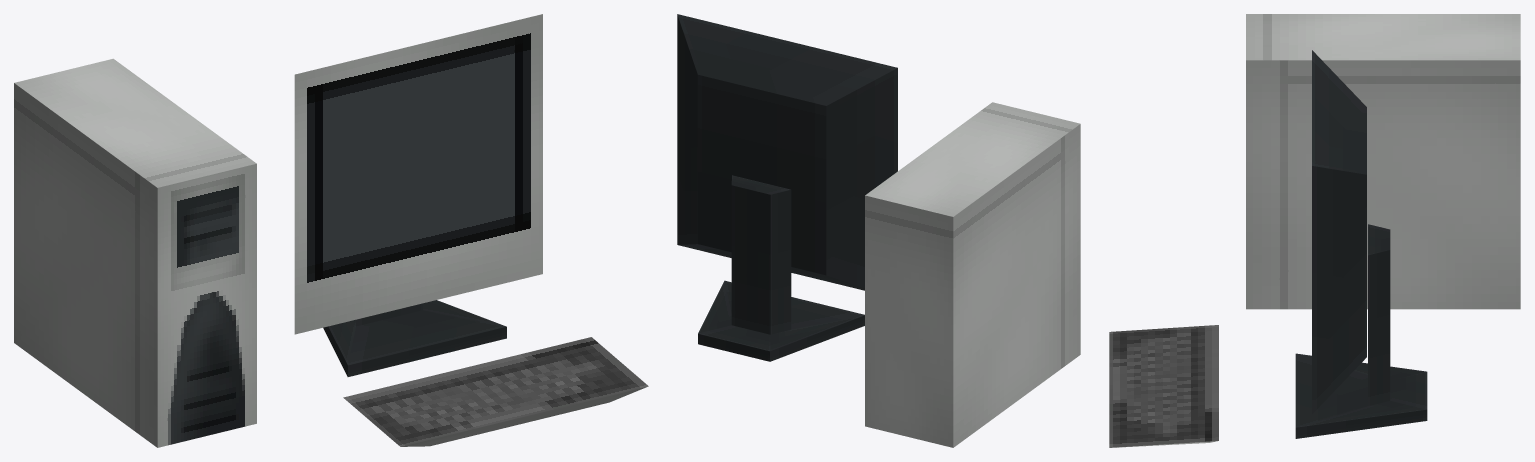
The picture shows the model from 3 angles, left to right: view 1: azimuth 30°, elevation 25°; view 2: azimuth 150°, elevation 25°; view 3: azimuth 270°, elevation 25°; orthographic projection. The views are drawn at different scales.
Visible parts, largest first — view 1: hp; view 2: hp; view 3: hp.
Part boxes in pixels (bbox=[...]): hp: bbox=[14, 14, 648, 447]; hp: bbox=[677, 14, 1080, 447]; hp: bbox=[1109, 14, 1520, 447].
Bounding box in the file's own units: 64.38 × 45.02 × 57.08.
